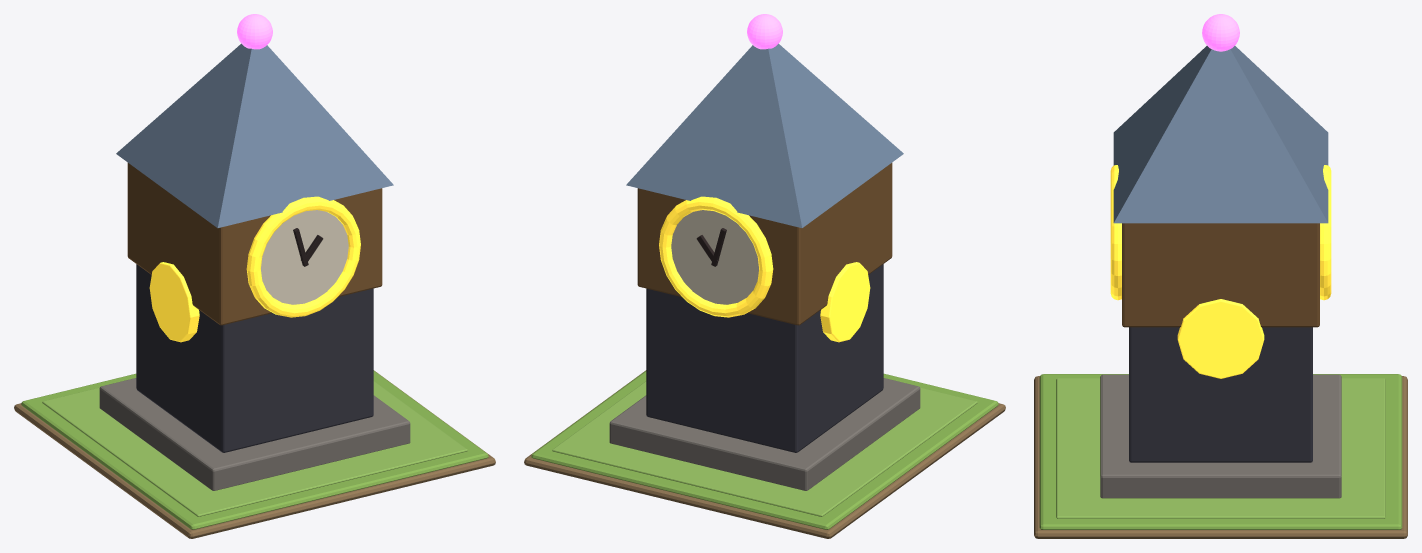
The model's file is clock_tower_lv7.glb.
The picture shows the model from 3 angles, left to right: view 1: azimuth 30°, elevation 25°; view 2: azimuth 150°, elevation 25°; view 3: azimuth 270°, elevation 25°; orthographic projection. The views are drawn at different scales.
Parts seen in each view (by area): view 1: CT_LowerShaft, CT_SpireRoof, CT_UpperHousing, Base_Inner, CT_Plinth, Base_Grass, ClockDial_-1, Base_Dirt, ClockBezel_-1, CT_SideGear_-1, CT_ApexOrb; view 2: CT_LowerShaft, CT_SpireRoof, CT_UpperHousing, Base_Inner, CT_Plinth, Base_Grass, ClockDial_1, Base_Dirt, ClockBezel_1, CT_SideGear_-1, CT_ApexOrb; view 3: CT_SpireRoof, CT_LowerShaft, CT_UpperHousing, Base_Inner, CT_Plinth, Base_Grass, CT_SideGear_1, Base_Dirt, ClockBezel_1, ClockBezel_-1, CT_ApexOrb.
Boxes of the visible parts, x1=… form: CT_LowerShaft: x1=136, y1=264, x2=373, y2=452; CT_SpireRoof: x1=116, y1=43, x2=393, y2=227; CT_UpperHousing: x1=127, y1=163, x2=382, y2=325; Base_Inner: x1=42, y1=381, x2=467, y2=516; CT_Plinth: x1=99, y1=378, x2=410, y2=490; Base_Grass: x1=21, y1=370, x2=488, y2=529; ClockDial_-1: x1=261, y1=210, x2=348, y2=304; Base_Dirt: x1=14, y1=370, x2=495, y2=538; ClockBezel_-1: x1=246, y1=196, x2=360, y2=317; CT_SideGear_-1: x1=149, y1=262, x2=199, y2=342; CT_ApexOrb: x1=237, y1=14, x2=272, y2=49; CT_LowerShaft: x1=646, y1=264, x2=883, y2=452; CT_SpireRoof: x1=626, y1=43, x2=903, y2=227; CT_UpperHousing: x1=637, y1=163, x2=892, y2=325; Base_Inner: x1=552, y1=381, x2=977, y2=516; CT_Plinth: x1=609, y1=378, x2=920, y2=490; Base_Grass: x1=531, y1=370, x2=998, y2=529; ClockDial_1: x1=671, y1=210, x2=758, y2=304; Base_Dirt: x1=524, y1=370, x2=1005, y2=538; ClockBezel_1: x1=659, y1=196, x2=773, y2=317; CT_SideGear_-1: x1=820, y1=262, x2=870, y2=342; CT_ApexOrb: x1=747, y1=14, x2=782, y2=49; CT_SpireRoof: x1=1113, y1=46, x2=1328, y2=223; CT_LowerShaft: x1=1129, y1=327, x2=1312, y2=462; CT_UpperHousing: x1=1122, y1=223, x2=1319, y2=327; Base_Inner: x1=1056, y1=378, x2=1385, y2=518; CT_Plinth: x1=1100, y1=374, x2=1341, y2=498; Base_Grass: x1=1039, y1=374, x2=1402, y2=529; CT_SideGear_1: x1=1177, y1=299, x2=1264, y2=378; Base_Dirt: x1=1034, y1=376, x2=1407, y2=538; ClockBezel_1: x1=1320, y1=165, x2=1331, y2=300; ClockBezel_-1: x1=1110, y1=165, x2=1121, y2=300; CT_ApexOrb: x1=1202, y1=14, x2=1239, y2=51.
Bounding box in the file's own units: 2.76 × 3.63 × 2.76.
